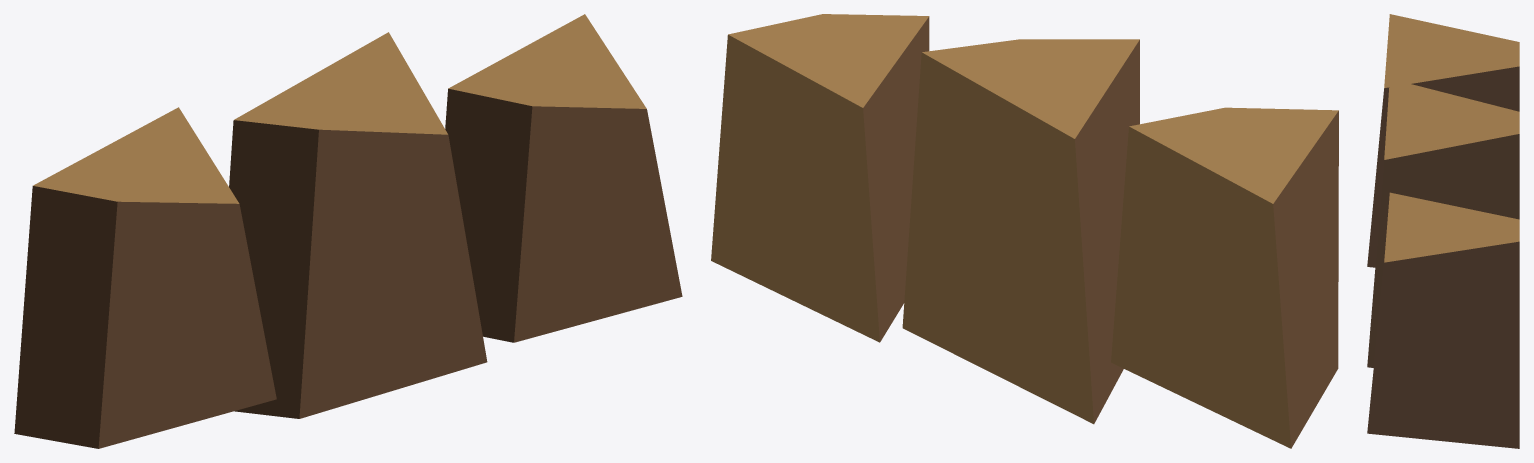
Rendered from rootfall-seam.glb.
The picture shows the model from 3 angles, left to right: view 1: azimuth 30°, elevation 25°; view 2: azimuth 150°, elevation 25°; view 3: azimuth 270°, elevation 25°; orthographic projection. The views are drawn at different scales.
Visible parts, largest first — view 1: RootfallBark_chunk_1, RootfallBark_chunk_0, RootfallBark_chunk_2; view 2: RootfallBark_chunk_1, RootfallBark_chunk_0, RootfallBark_chunk_2; view 3: RootfallBark_chunk_2, RootfallBark_chunk_1, RootfallBark_chunk_0.
Boxes of the visible parts, <box> form: RootfallBark_chunk_1: <box>229,32,487,418</box>; RootfallBark_chunk_0: <box>14,107,276,448</box>; RootfallBark_chunk_2: <box>445,14,682,342</box>; RootfallBark_chunk_1: <box>902,39,1139,424</box>; RootfallBark_chunk_0: <box>1111,107,1338,448</box>; RootfallBark_chunk_2: <box>711,14,929,342</box>; RootfallBark_chunk_2: <box>1367,192,1519,448</box>; RootfallBark_chunk_1: <box>1367,78,1519,367</box>; RootfallBark_chunk_0: <box>1367,14,1519,267</box>.
Bounding box in the file's own units: 0.515 × 0.28 × 0.135.
1 material, 1 textured.
